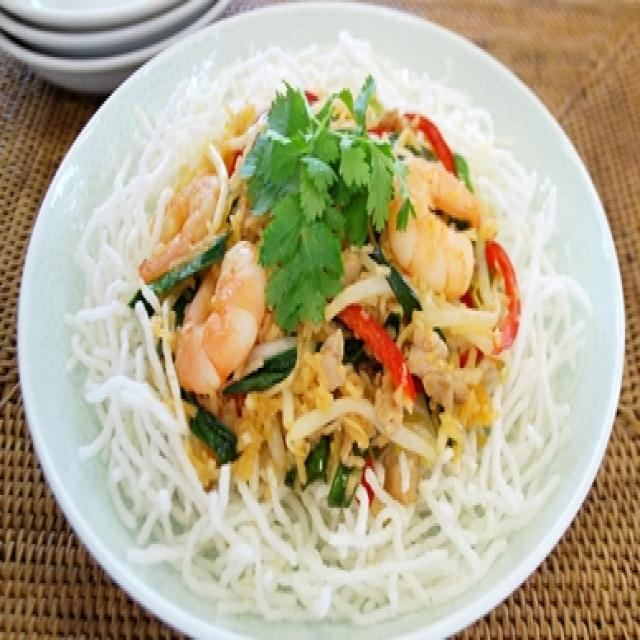鸡蛋料理: (28, 0, 613, 619)
